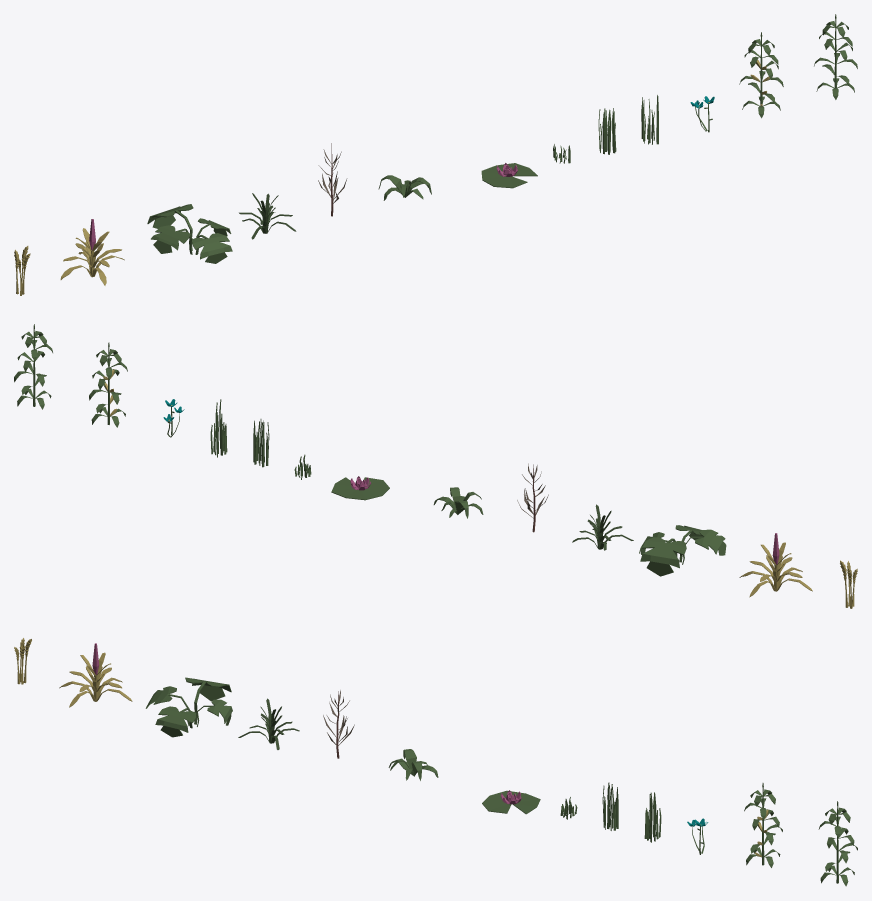
File: flowers.glb
The picture shows the model from 3 angles, top to bottom: view 1: azimuth 30°, elevation 25°; view 2: azimuth 150°, elevation 25°; view 3: azimuth 330°, elevation 25°; orthographic projection.
Parts seen in each view (by area): view 1: Plant_4, Plant_5, Corn_2, Corn_1, Lilypad, Plant_3, Grass, Plant_1, Grass_2; view 2: Plant_4, Plant_5, Corn_2, Corn_1, Lilypad, Plant_3, Plant_1, Grass, Grass_2; view 3: Plant_4, Plant_5, Corn_2, Corn_1, Lilypad, Plant_3, Plant_1, Grass, Grass_2.
Part boxes in pixels (bbox=[...]): Plant_4: bbox=[147, 204, 232, 263]; Plant_5: bbox=[60, 219, 124, 285]; Corn_2: bbox=[739, 32, 783, 118]; Corn_1: bbox=[814, 14, 857, 99]; Lilypad: bbox=[481, 163, 537, 188]; Plant_3: bbox=[239, 193, 296, 239]; Grass: bbox=[598, 108, 616, 154]; Plant_1: bbox=[378, 175, 431, 200]; Grass_2: bbox=[641, 95, 658, 144]; Plant_4: bbox=[639, 525, 726, 576]; Plant_5: bbox=[739, 533, 812, 597]; Corn_2: bbox=[89, 342, 127, 427]; Corn_1: bbox=[14, 324, 52, 409]; Lilypad: bbox=[331, 476, 389, 500]; Plant_3: bbox=[572, 504, 633, 550]; Plant_1: bbox=[433, 487, 483, 518]; Grass: bbox=[253, 419, 269, 467]; Grass_2: bbox=[210, 399, 227, 457]; Plant_4: bbox=[145, 677, 232, 737]; Plant_5: bbox=[59, 643, 132, 707]; Corn_2: bbox=[744, 783, 782, 867]; Corn_1: bbox=[818, 801, 857, 886]; Lilypad: bbox=[482, 790, 540, 814]; Plant_3: bbox=[238, 698, 299, 749]; Plant_1: bbox=[388, 749, 438, 780]; Grass: bbox=[602, 782, 618, 830]; Grass_2: bbox=[644, 792, 661, 842].
Size of the model in its own units: 25.2 by 2.4 by 2.52.
